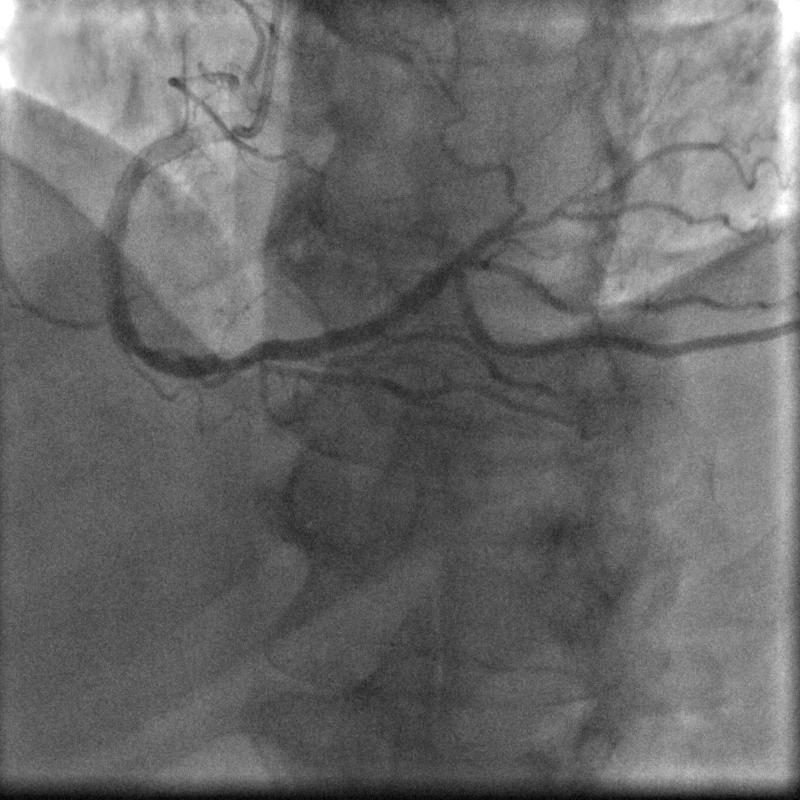Stenosis: (188, 347, 268, 373)
